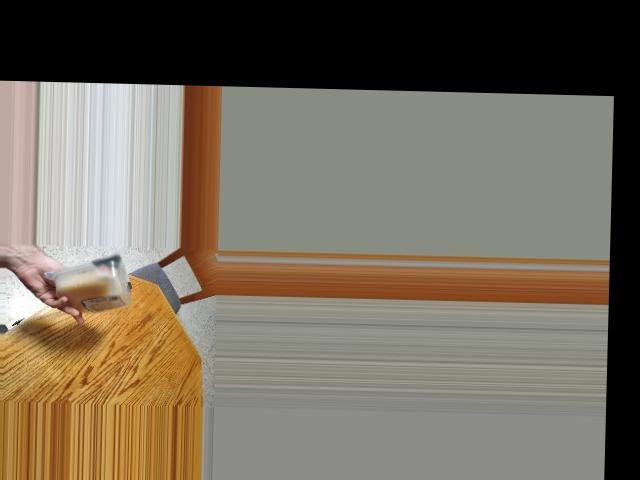cheese: (51, 254, 135, 317)
